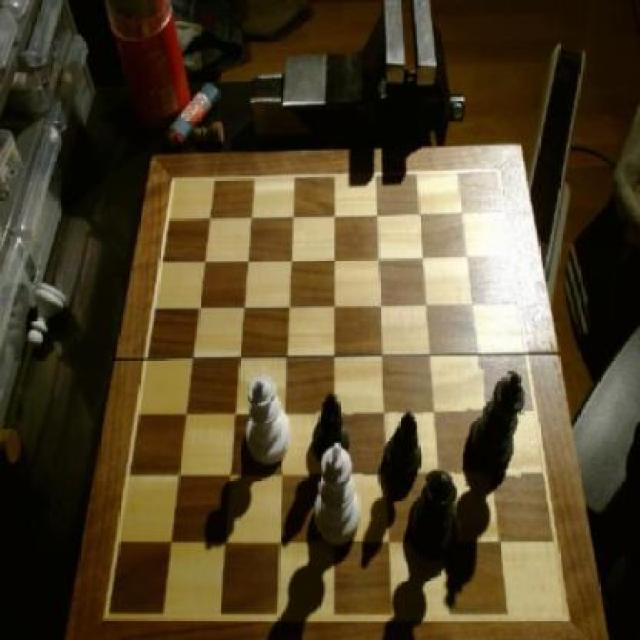bishop: (410, 469, 456, 575), (383, 409, 422, 488), (314, 394, 353, 472)
black-bishop: (463, 369, 525, 491)
white-bishop: (311, 444, 362, 552)
white-pawn: (245, 370, 297, 472)
